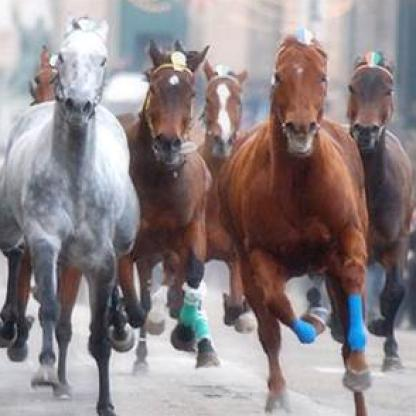horse: (214, 28, 369, 415), (1, 19, 139, 414), (112, 42, 209, 366), (173, 60, 249, 370), (348, 50, 413, 370)
